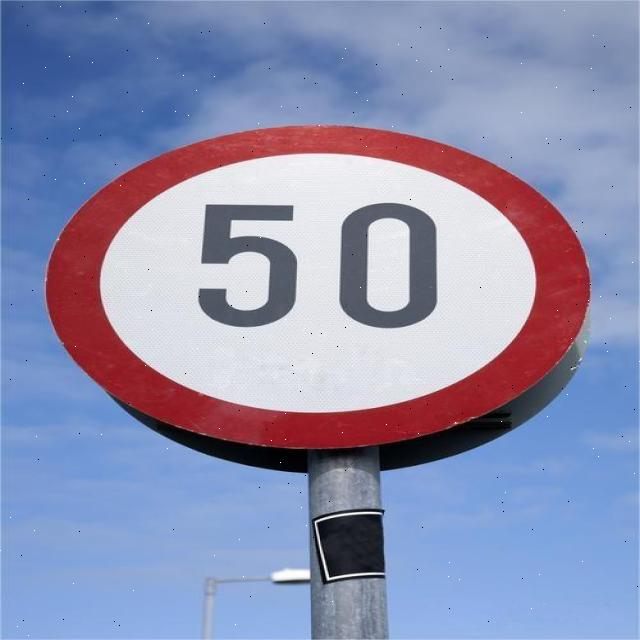speed limit 50: (45, 123, 596, 451)
